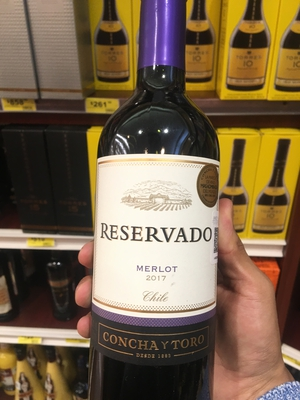reservado merlot: (80, 1, 234, 400)
